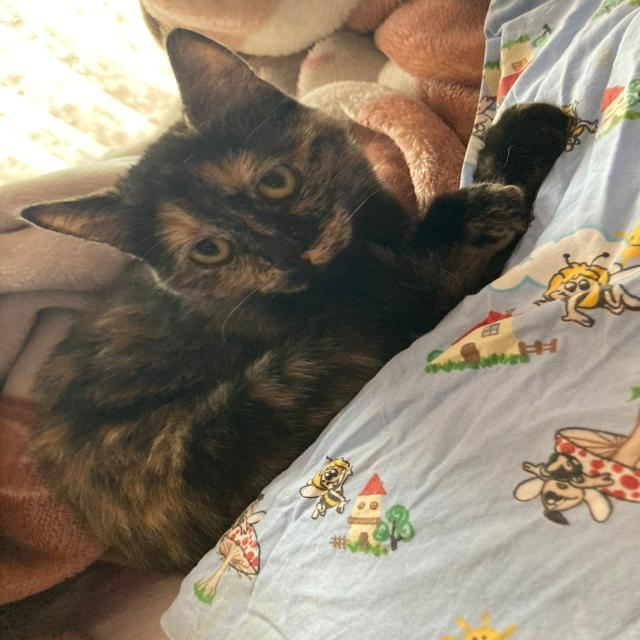authorized: (21, 26, 585, 577)
